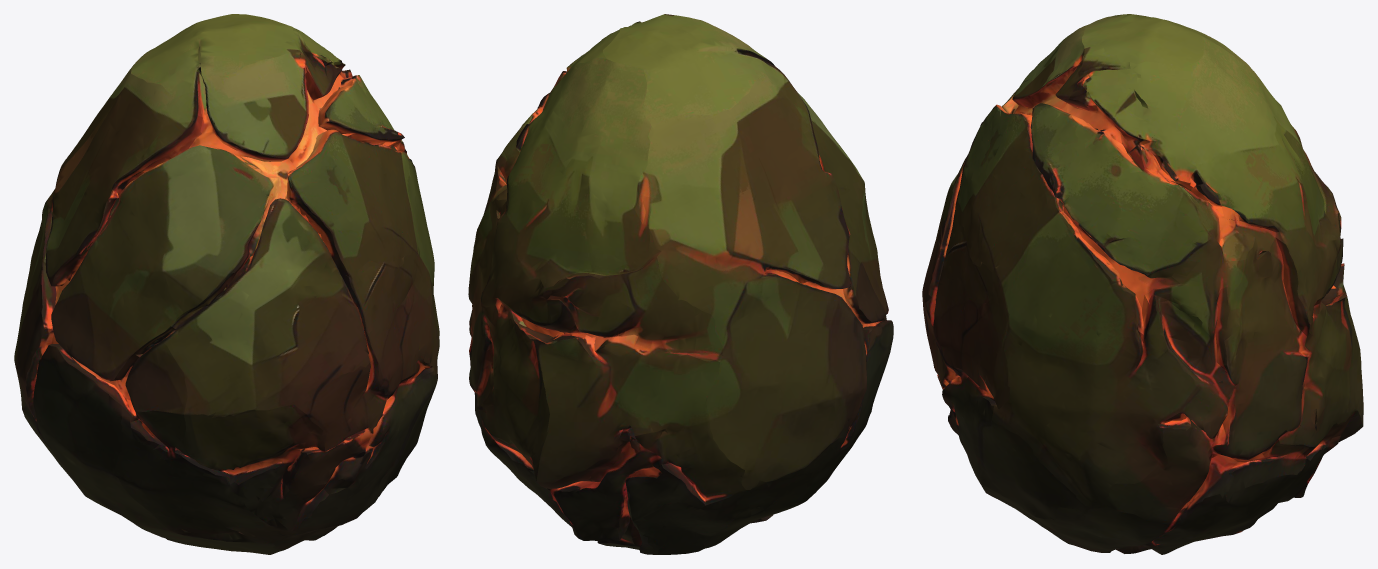
File: item_fire_egg.glb
The picture shows the model from 3 angles, left to right: view 1: azimuth 30°, elevation 25°; view 2: azimuth 150°, elevation 25°; view 3: azimuth 270°, elevation 25°; orthographic projection. The views are drawn at different scales.
Visible parts, largest first — view 1: item_fire_egg; view 2: item_fire_egg; view 3: item_fire_egg.
Boxes of the visible parts, x1,y1,x2,y2 form: item_fire_egg: [14, 14, 439, 554]; item_fire_egg: [468, 14, 893, 554]; item_fire_egg: [922, 14, 1363, 554].
Size of the model in its own units: 0.1284 by 0.16 by 0.1255.
1 material, 1 textured.
